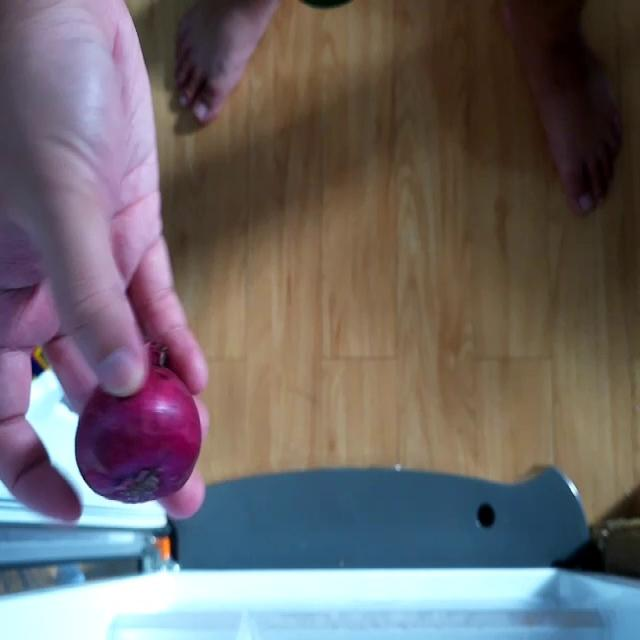onion: (72, 362, 202, 506)
